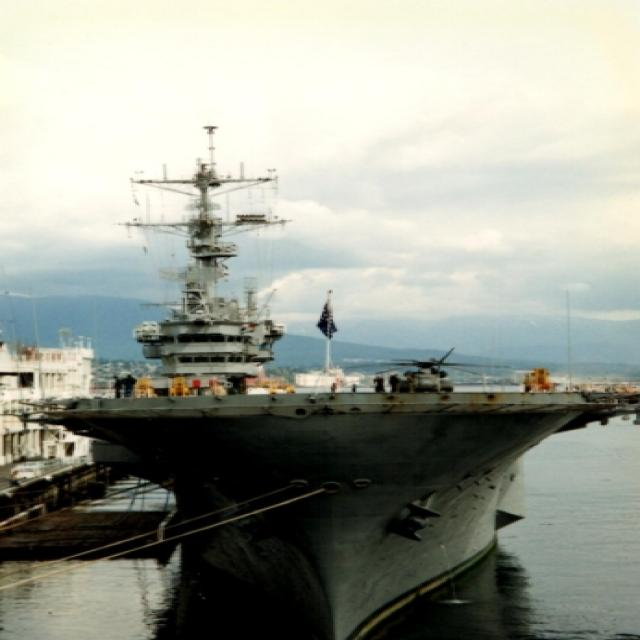Portanaves: (1, 79, 640, 640)
